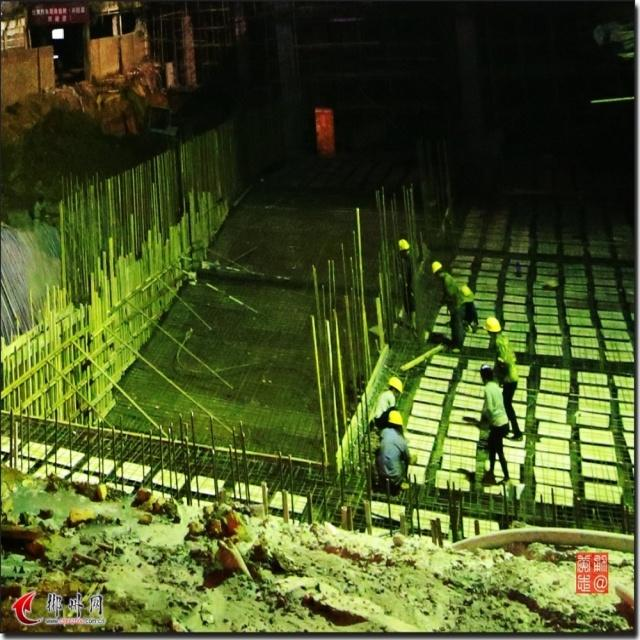helmet: (387, 543, 404, 573), (485, 419, 500, 452), (387, 503, 403, 532), (398, 318, 411, 346), (430, 348, 442, 369)
